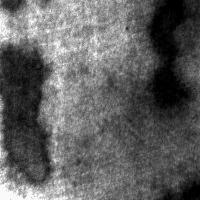patches: (56, 70, 194, 200), (1, 42, 52, 184), (146, 151, 200, 200), (151, 0, 200, 53), (146, 1, 190, 59), (148, 61, 190, 109), (169, 179, 200, 199), (1, 1, 28, 16)
